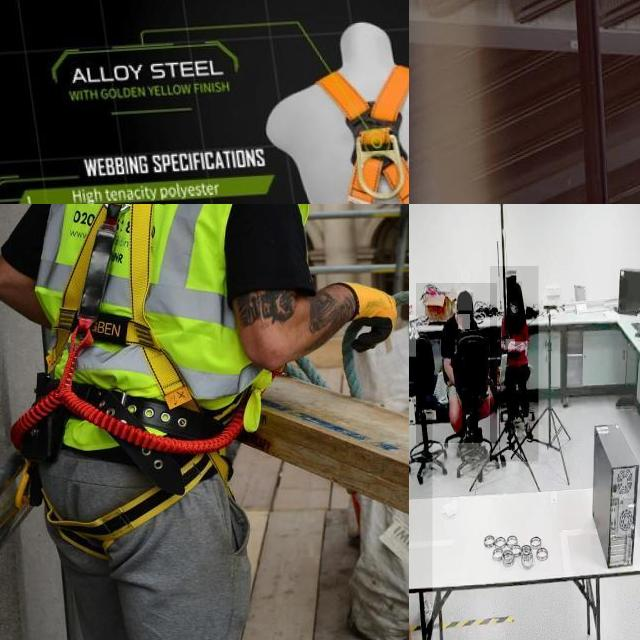Harness: (52, 204, 193, 408), (319, 66, 409, 204)
face_mask: (509, 296, 522, 328)
face_nomask: (458, 314, 470, 330)
hand_noglove: (505, 339, 515, 350), (514, 342, 526, 351)
head_nohelmet: (458, 290, 472, 311), (507, 281, 523, 295)
person: (416, 283, 497, 444), (490, 266, 539, 462)
shoes: (520, 422, 536, 446)
